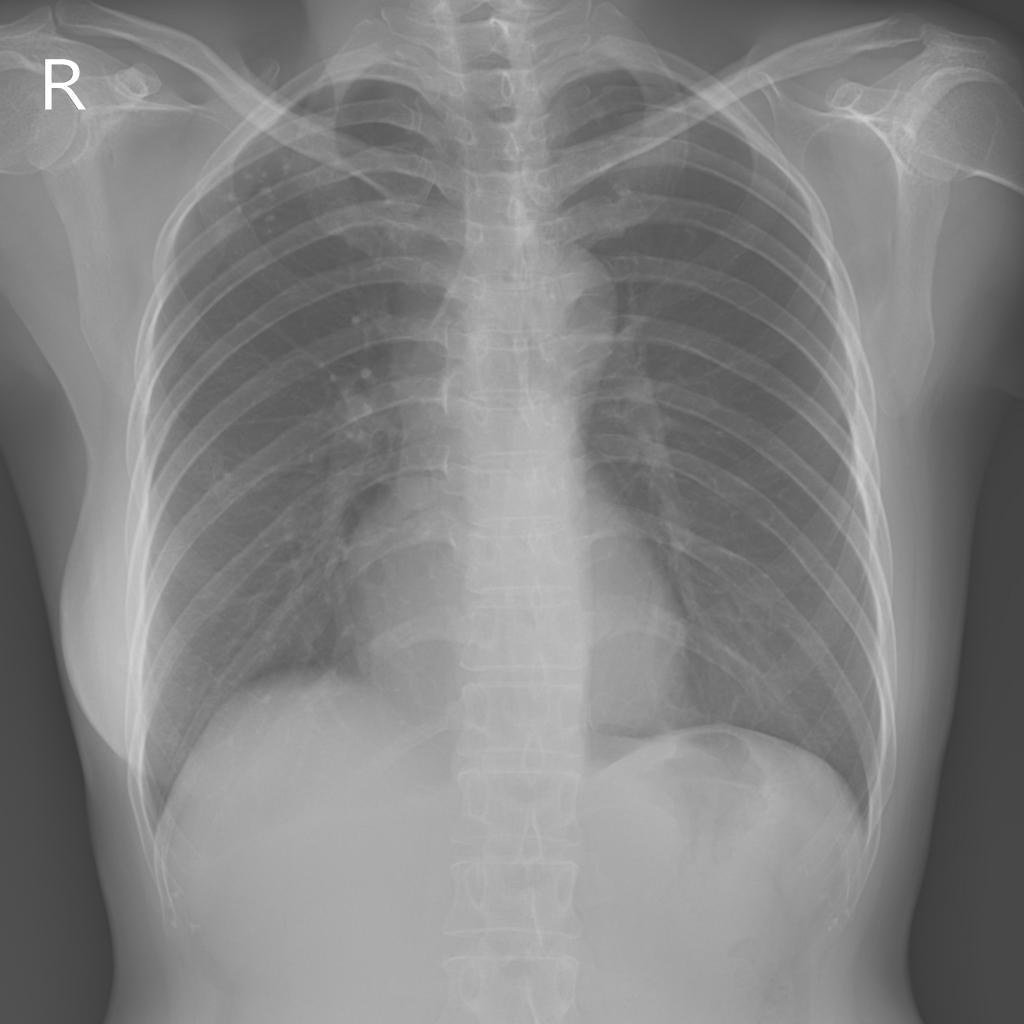Nodule: (218, 154, 300, 236)
